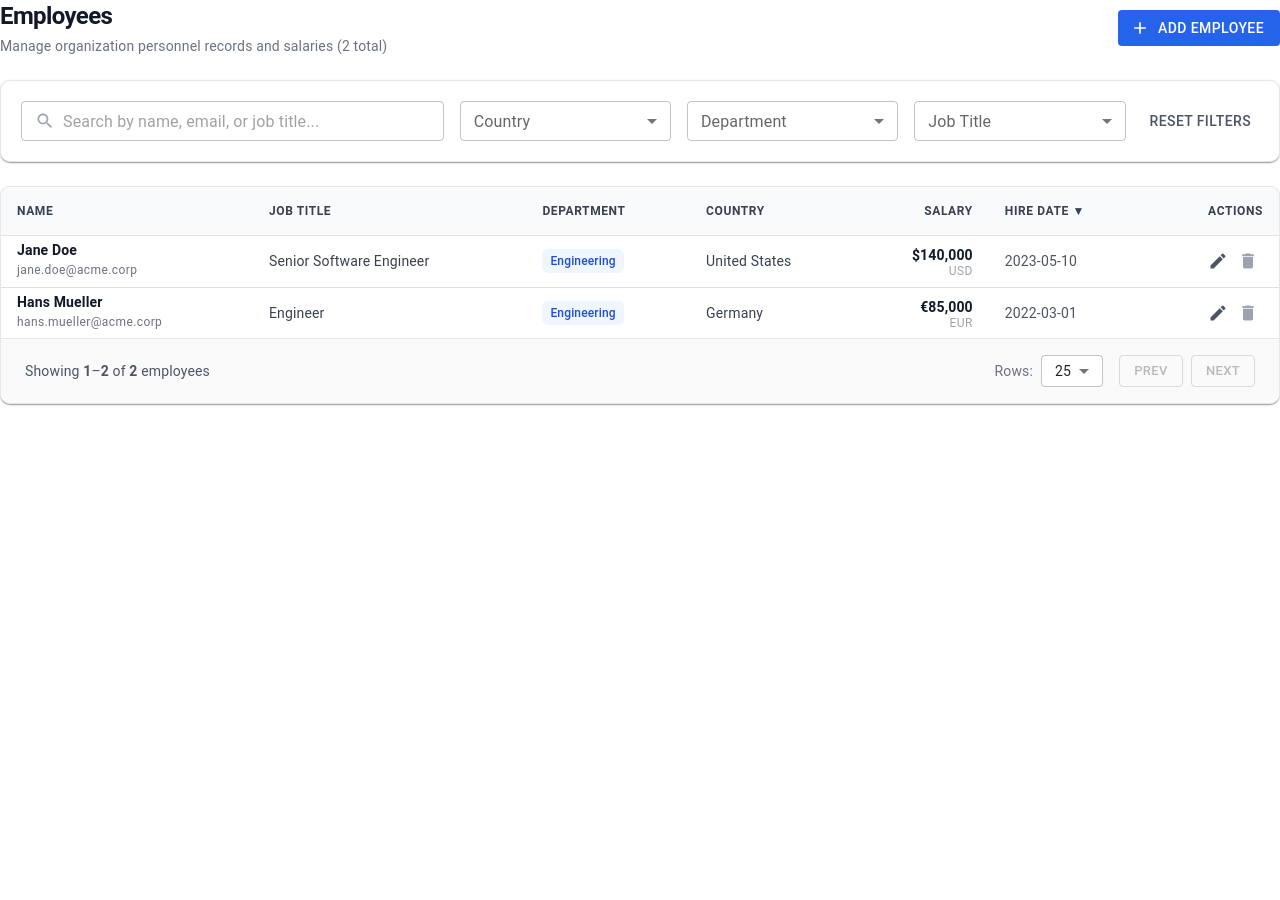
Test case: EmployeesPage › deletes an employee through confirmation dialog
Expected: the text "Jane Doe" is shown, [17,242,77,258]
Click the button with test id "delete-employee-button" in the row of "jane.doe@acme.corp". click: [1248, 261]
box: [1233,246,1263,276]
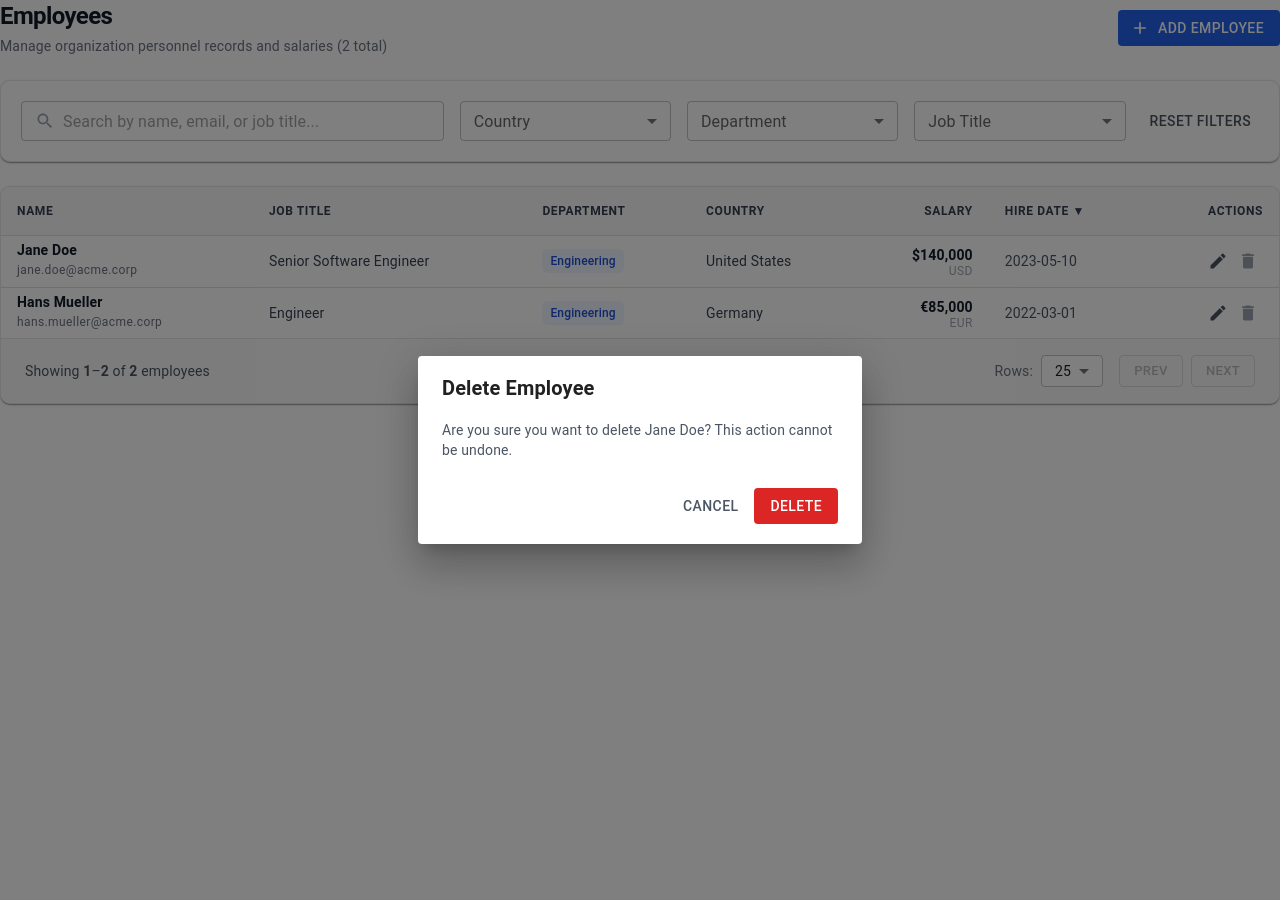
Expected: the text "Are you sure" is shown, [442,422,833,458]
Click the button "Delete". click: [796, 506]
box: [754,488,838,524]
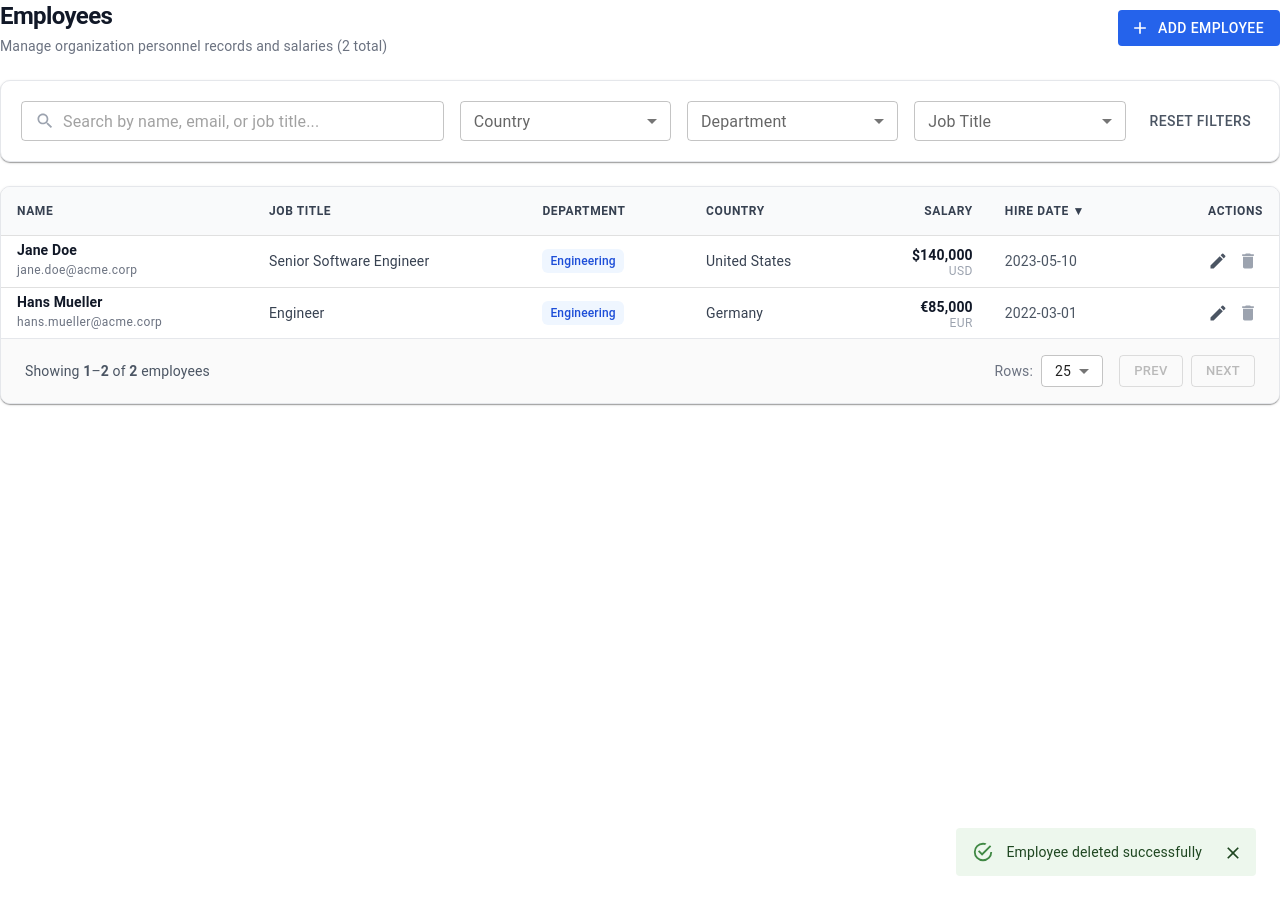
Expected: the text "Employee deleted successfully" is shown, [1006,844,1202,860]
